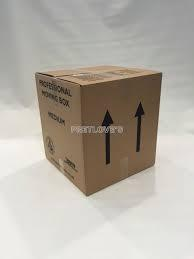Cardboard: (16, 50, 180, 206)
